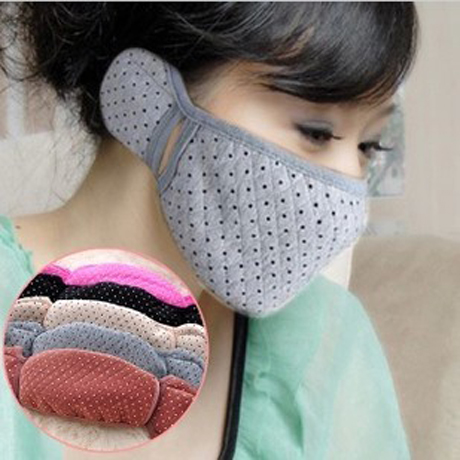face_mask: (175, 29, 393, 300)
